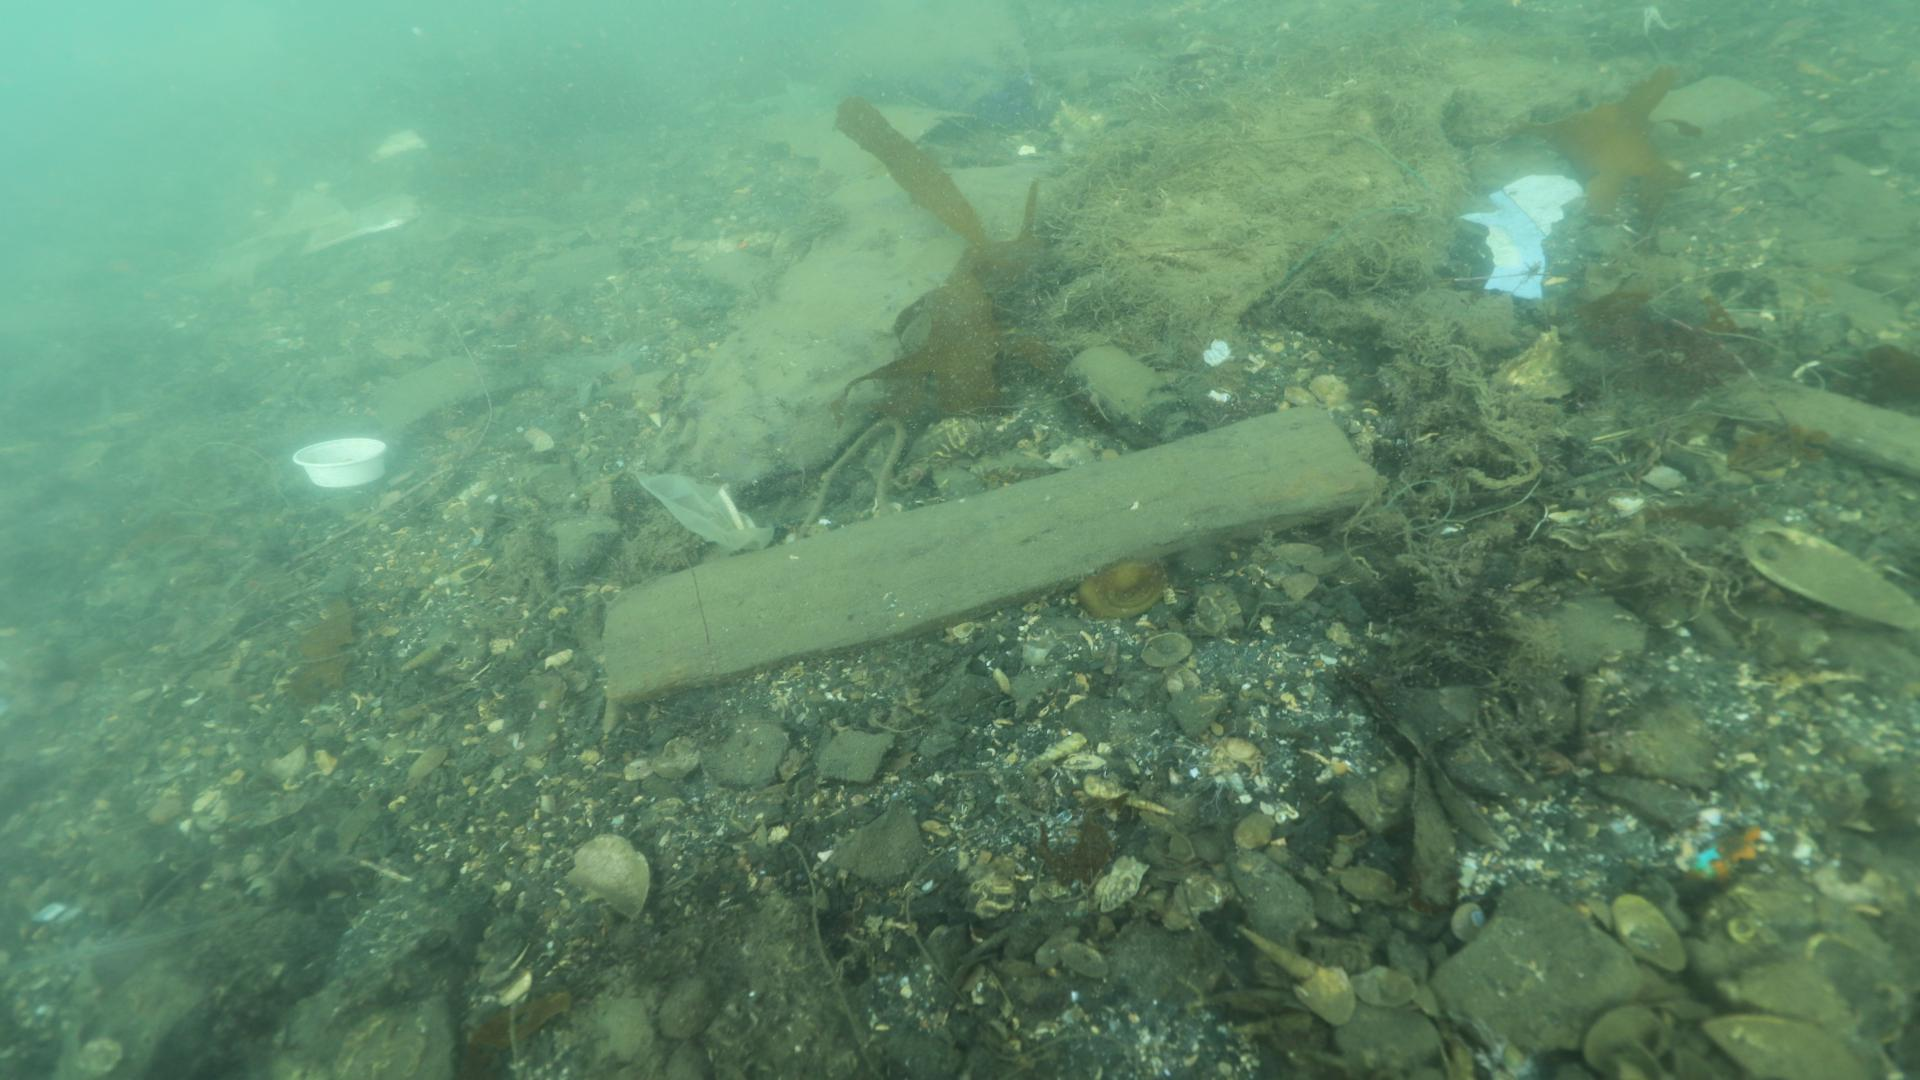wood: (595, 401, 1391, 716)
